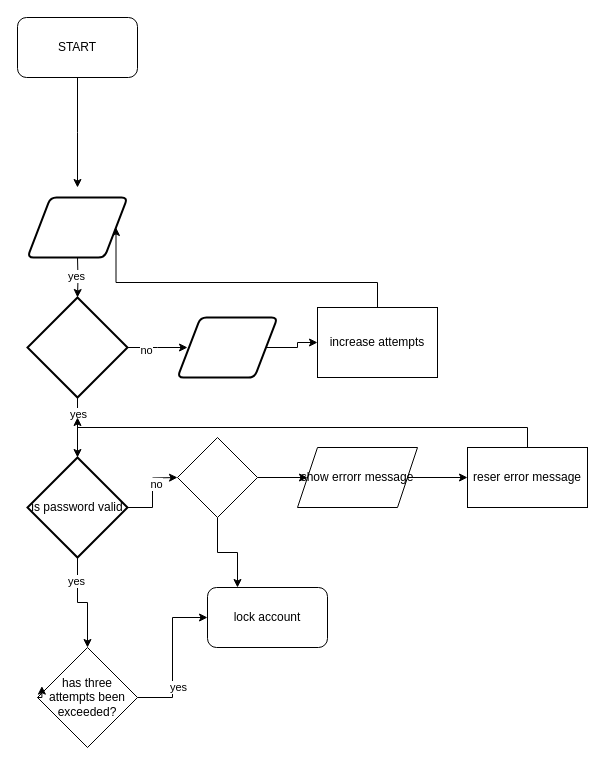
Image size: 605x765. Some labels were removed from this diagram. Here are the shapes that lost their labels. From the top down, the centre of each, then its label:
At point 77,227: "enter username and password".
At point 77,347: "is username vadid?".
At point 227,347: "show error message".
At point 217,477: "has 3 attempts been exceeded?".
